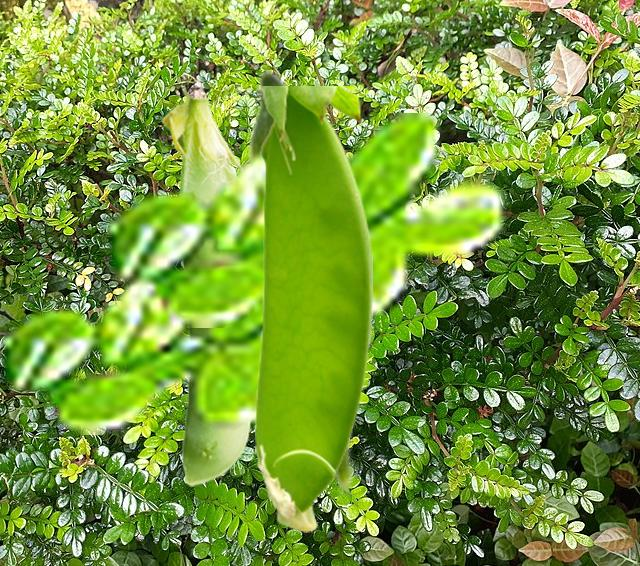pea: (255, 86, 371, 531), (246, 67, 356, 495), (161, 86, 253, 485)
